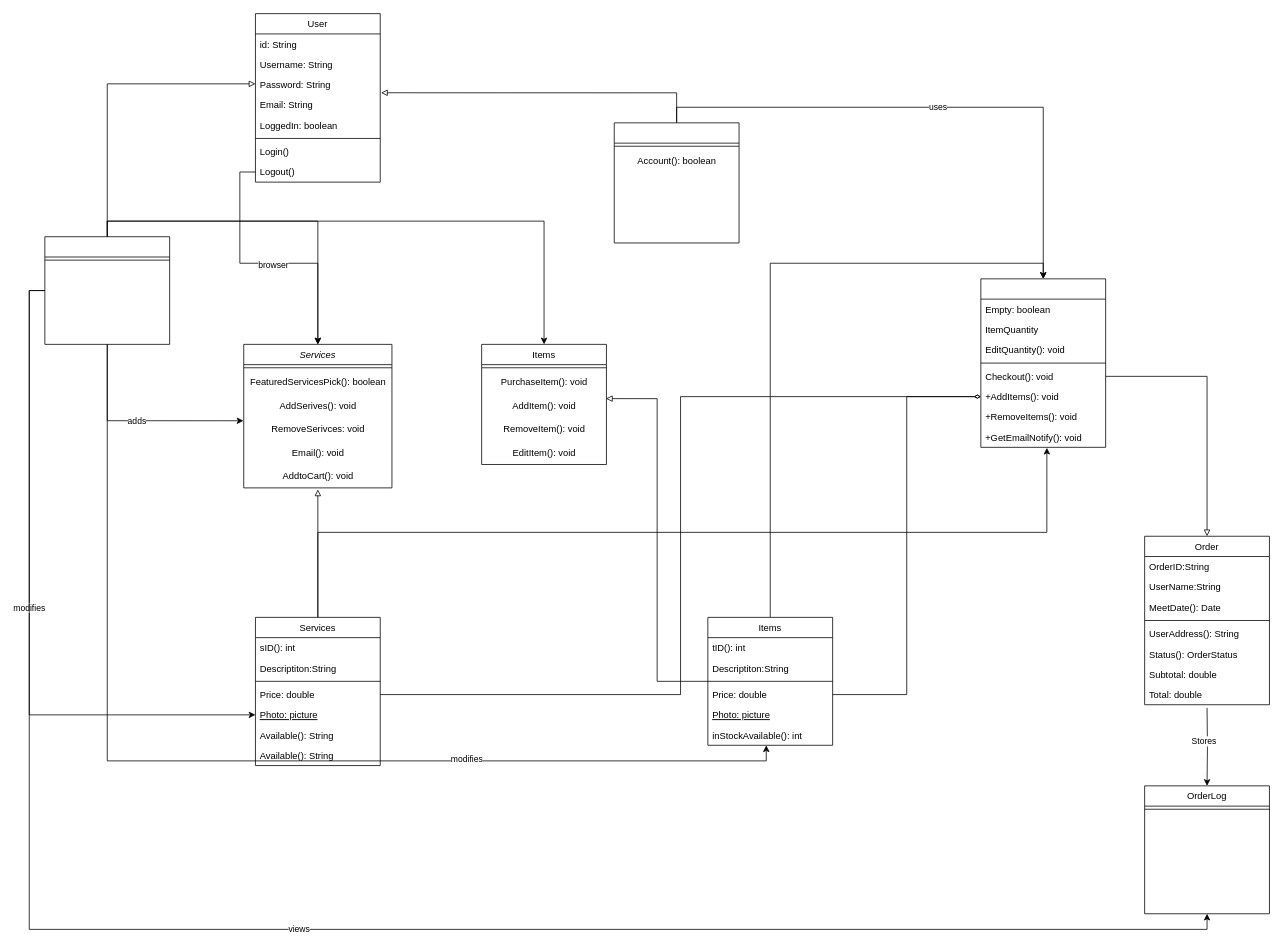
Some shapes in this 1283 by 949 pixel diagram are drawn without their labels. The box of each missing label's shape, as (x1, y1, x2, y2) in pixels:
Cart: (980, 278, 1106, 447)
Client: (44, 236, 170, 344)
Customer: (613, 122, 739, 243)
